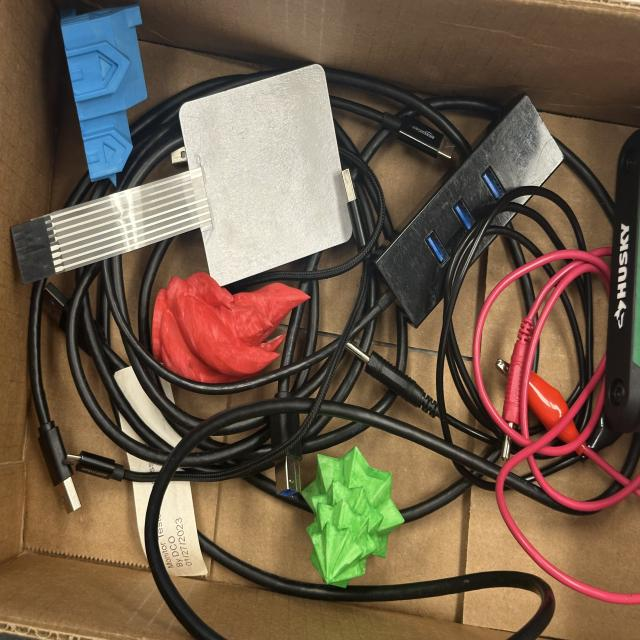fire: (149, 266, 311, 388)
house: (55, 3, 151, 187)
tree: (298, 442, 406, 589)
